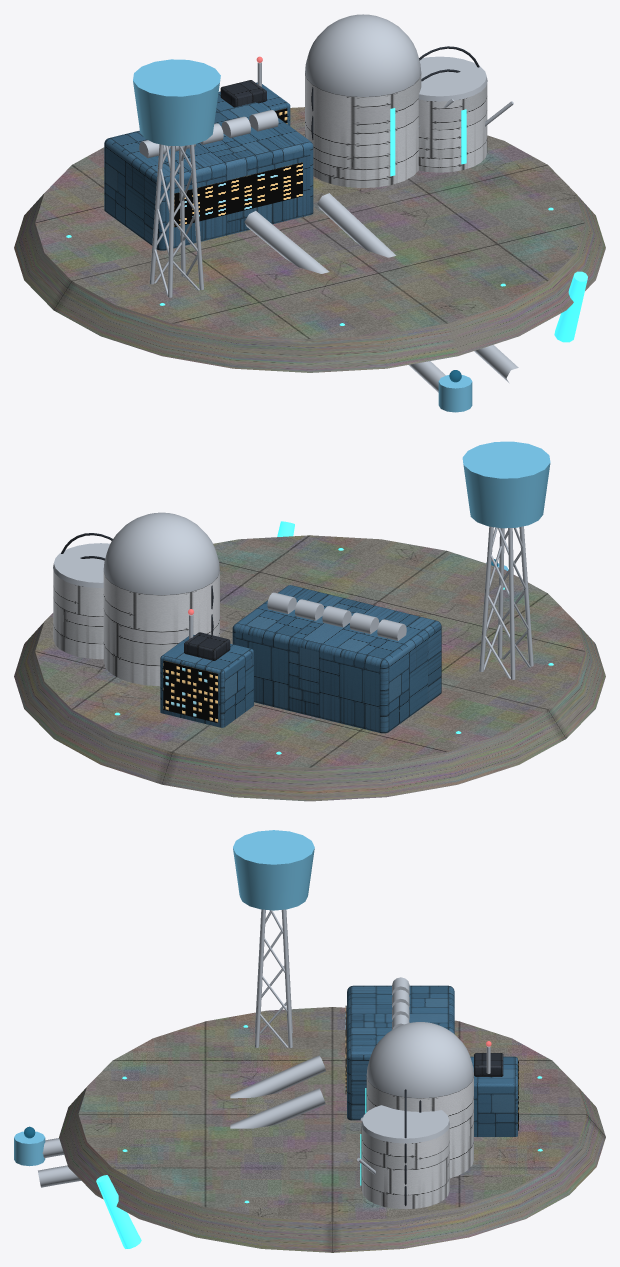
Rendered from desal-T3.glb.
3 renders of one model, top to bottom at view 1: azimuth 30°, elevation 25°; view 2: azimuth 150°, elevation 25°; view 3: azimuth 270°, elevation 25°, orthographic. The views are drawn at different scales.
Visible parts, largest first — view 1: object 1, object 11, object 18, object 19, object 64, object 25, object 12, object 26, object 66, object 65, object 69, object 67 (+2 smaller); view 2: object 1, object 11, object 18, object 19, object 64, object 70, object 25, object 72, object 26, object 73, object 13, object 15 (+3 smaller); view 3: object 1, object 19, object 11, object 25, object 64, object 18, object 70, object 26, object 66, object 65, object 69, object 67 (+1 smaller).
Boxes of the visible parts, bbox=[...] form: object 1: bbox=[14, 107, 605, 372]; object 11: bbox=[104, 102, 313, 250]; object 18: bbox=[305, 73, 421, 187]; object 19: bbox=[305, 14, 421, 96]; object 64: bbox=[133, 59, 220, 146]; object 25: bbox=[418, 83, 487, 172]; object 12: bbox=[174, 162, 302, 227]; object 26: bbox=[418, 56, 487, 101]; object 66: bbox=[317, 193, 518, 383]; object 65: bbox=[244, 211, 445, 392]; object 69: bbox=[554, 271, 587, 342]; object 67: bbox=[438, 375, 472, 412]; object 1: bbox=[14, 535, 605, 801]; object 11: bbox=[232, 585, 441, 733]; object 18: bbox=[103, 571, 219, 686]; object 19: bbox=[103, 512, 219, 595]; object 64: bbox=[462, 441, 550, 528]; object 70: bbox=[160, 635, 253, 727]; object 25: bbox=[53, 570, 103, 659]; object 72: bbox=[163, 660, 218, 722]; object 26: bbox=[53, 543, 109, 587]; object 73: bbox=[184, 632, 230, 660]; object 13: bbox=[377, 619, 406, 640]; object 15: bbox=[322, 606, 351, 627]; object 1: bbox=[59, 1007, 605, 1252]; object 19: bbox=[366, 1022, 473, 1098]; object 11: bbox=[347, 985, 454, 1120]; object 25: bbox=[361, 1126, 449, 1209]; object 64: bbox=[233, 830, 314, 910]; object 18: bbox=[366, 1076, 473, 1178]; object 70: bbox=[470, 1056, 517, 1136]; object 26: bbox=[361, 1105, 449, 1143]; object 66: bbox=[38, 1088, 325, 1187]; object 65: bbox=[42, 1055, 325, 1158]; object 69: bbox=[96, 1175, 141, 1248]; object 67: bbox=[14, 1131, 45, 1166].
Bounding box in the file's own units: 5.6 × 2.93 × 6.06.
12 materials, 6 textured.
